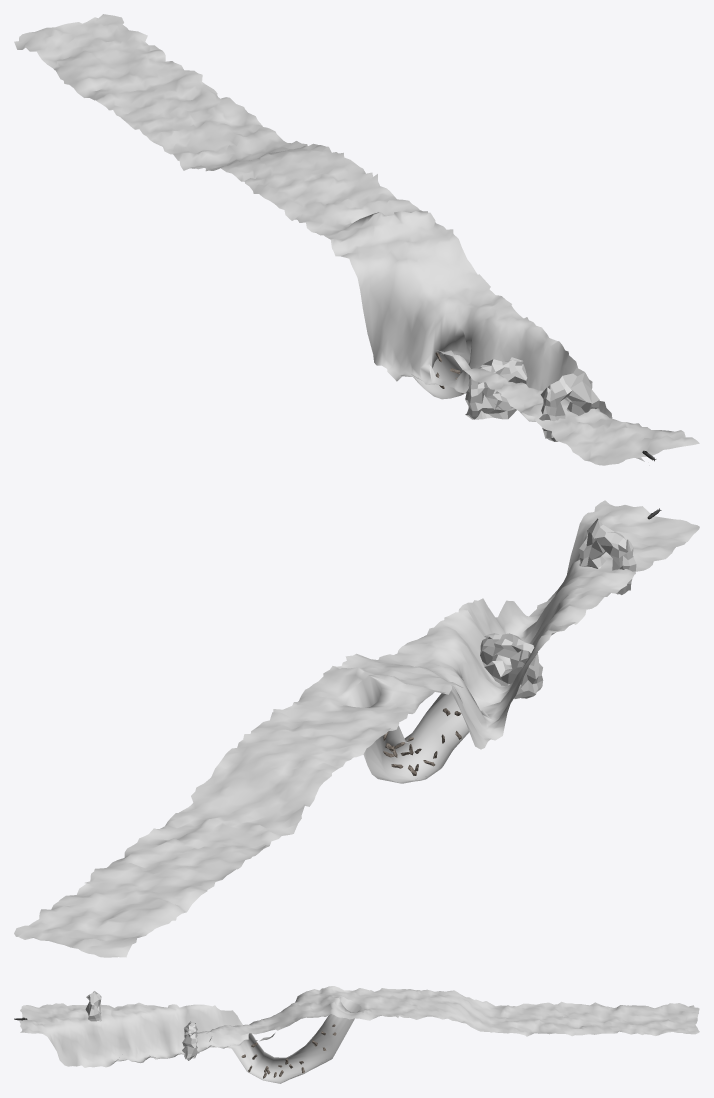
File: Rock2.glb
3 renders of one model, top to bottom at view 1: azimuth 30°, elevation 25°; view 2: azimuth 150°, elevation 25°; view 3: azimuth 270°, elevation 25°, orthographic. The views are drawn at different scales.
Parts seen in each view (by area): view 1: ground, holeRock, holeRock.001; view 2: ground, holeRock, holeRock.001; view 3: ground, holeRock, holeRock.001.
Boxes of the visible parts, <box> form: ground: <box>14,14,699,465</box>; holeRock: <box>465,357,527,419</box>; holeRock.001: <box>539,368,599,441</box>; ground: <box>14,500,699,957</box>; holeRock: <box>480,633,543,698</box>; holeRock.001: <box>579,518,636,594</box>; ground: <box>19,986,699,1083</box>; holeRock: <box>182,1021,198,1060</box>; holeRock.001: <box>85,991,101,1021</box>.
Bounding box in the file's own units: 110 × 138 × 1014.
2 materials, 2 textured.
